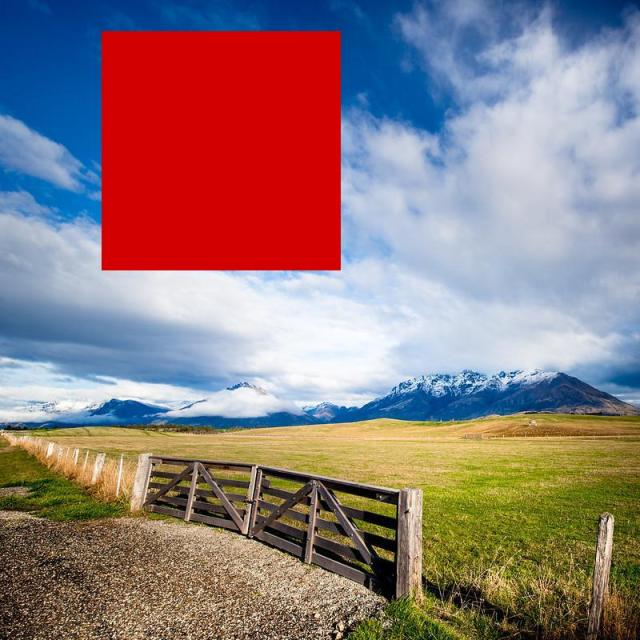RedSquare: (93, 24, 354, 282)
